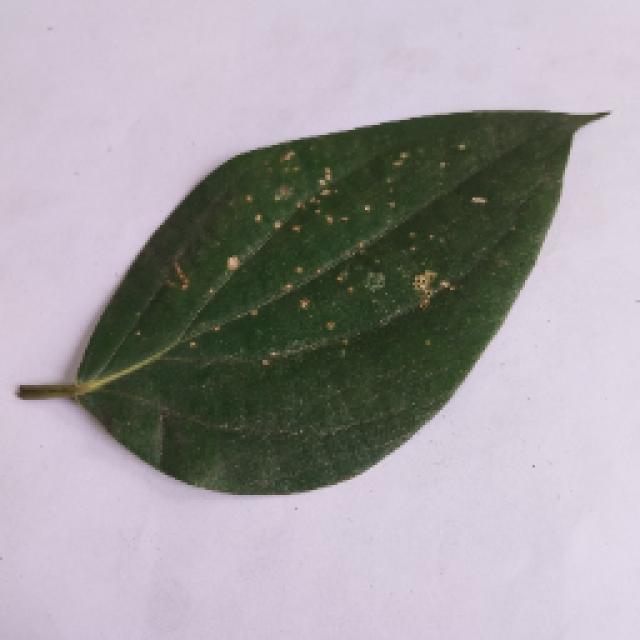pollu-disease: (5, 98, 610, 492)
